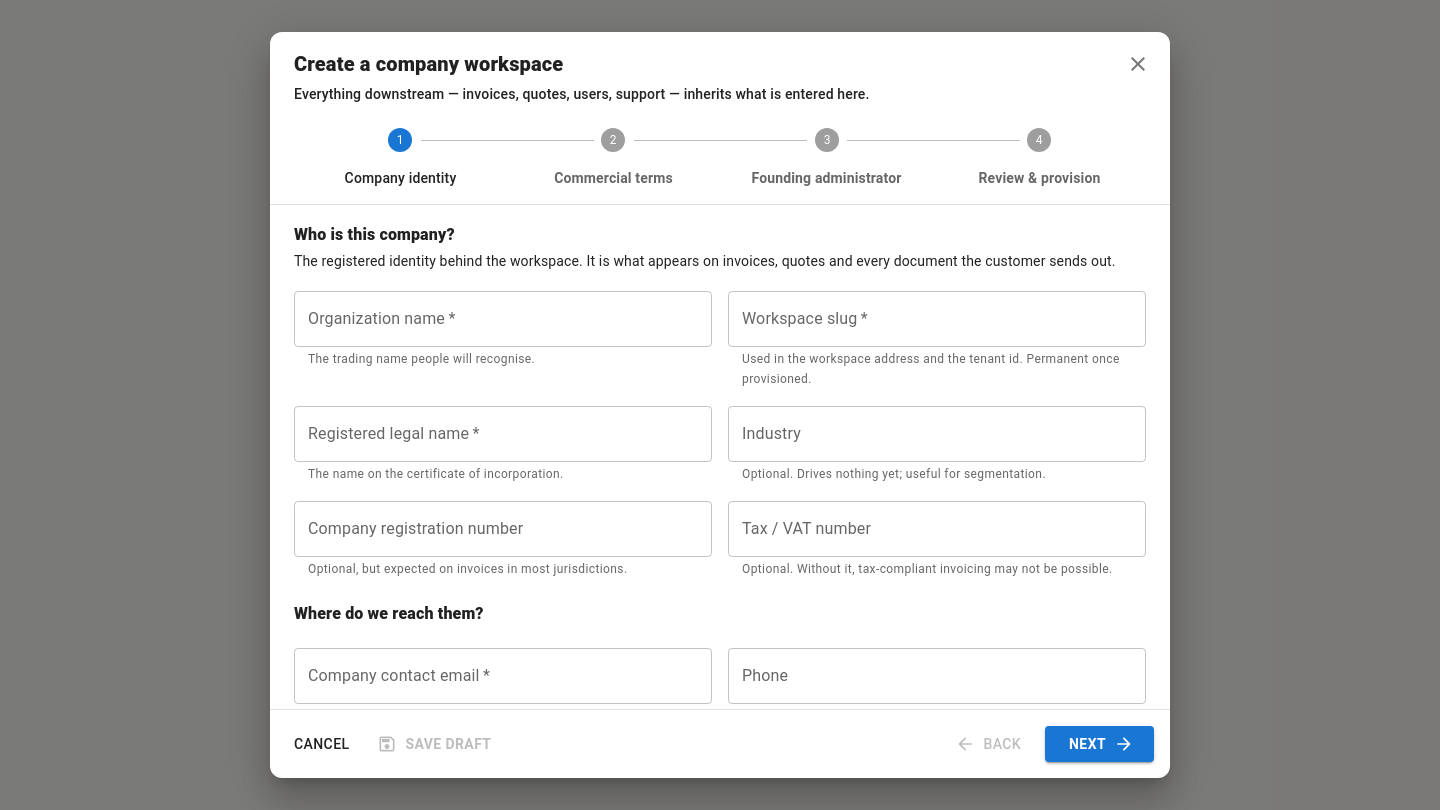
provisioning wizard › refuses to advance past an incomplete step and says how many fields are wrong
What coordinates should you click on to do the following:
click the button "Next"
I would click on:
 (1100, 744)
Its box is [1045,726,1154,762].
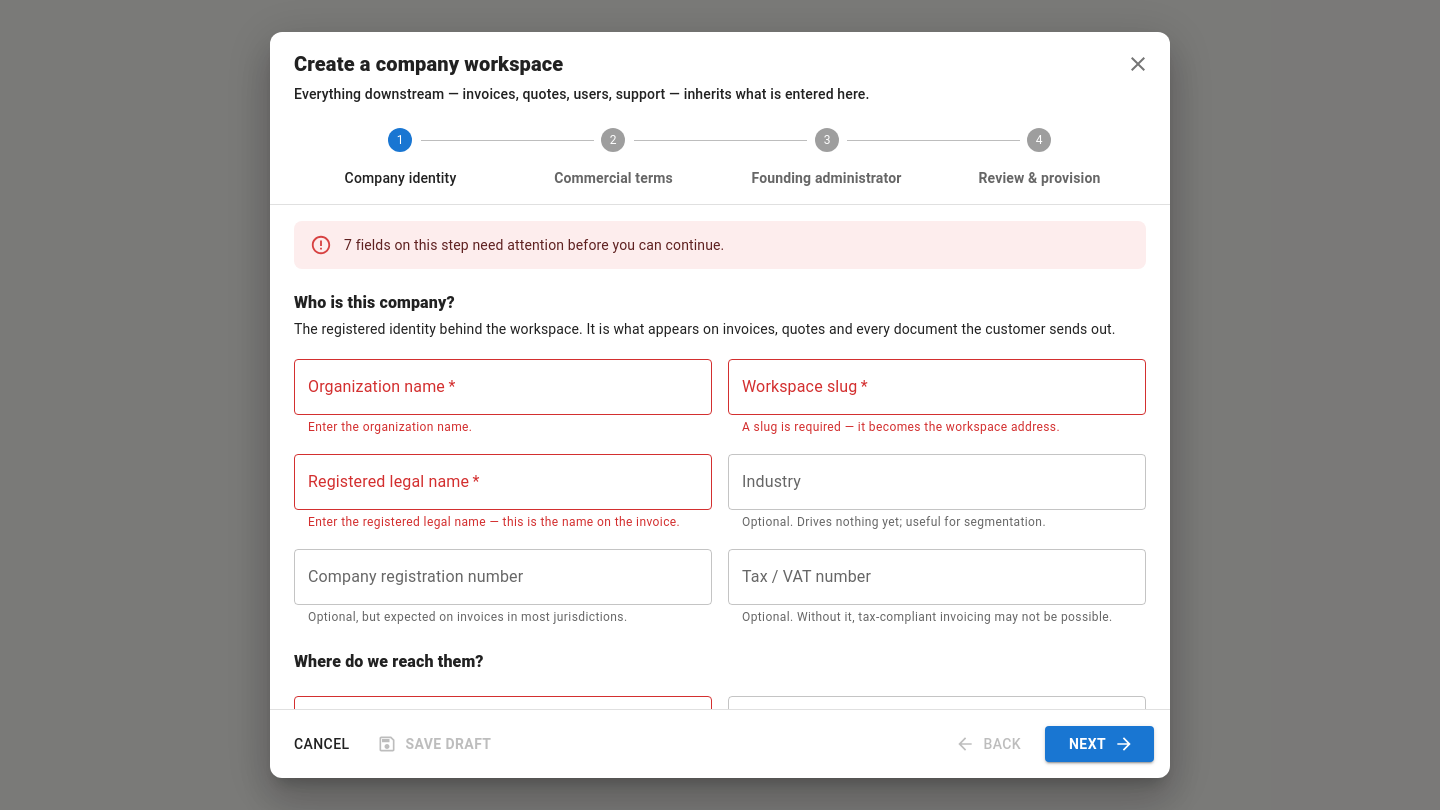
Expected: the message shows "need attention", [344,237,724,253]
